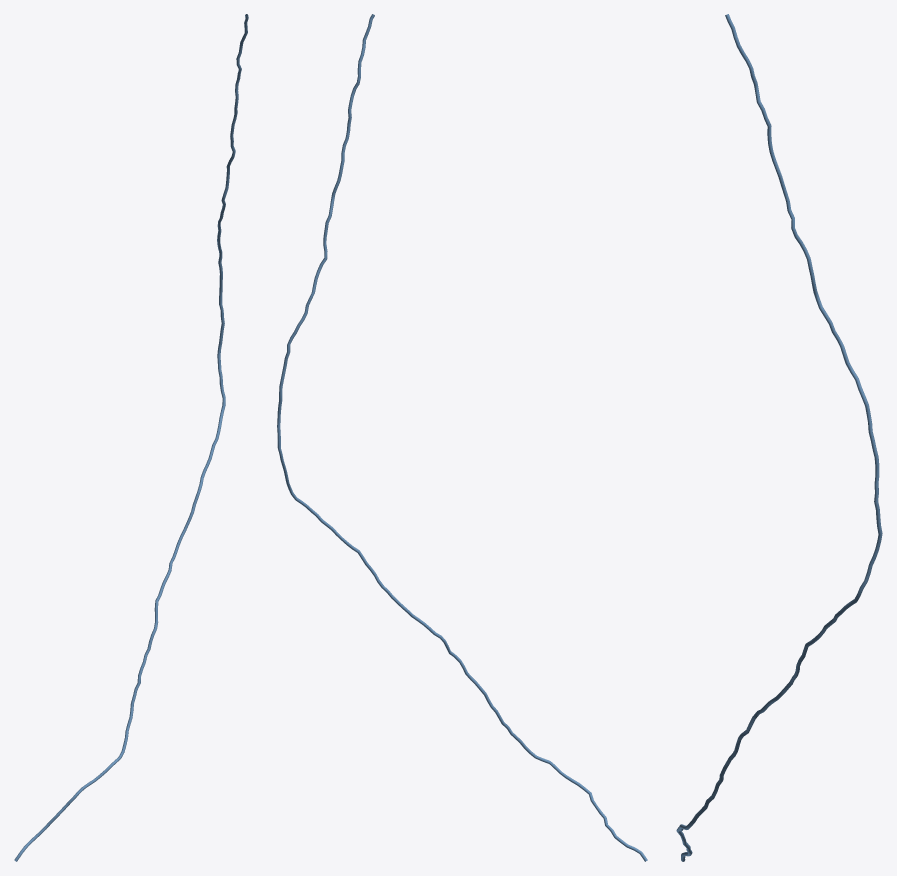
Rendered from sweep112.fbx.
The picture shows the model from 3 angles, left to right: view 1: azimuth 30°, elevation 25°; view 2: azimuth 150°, elevation 25°; view 3: azimuth 270°, elevation 25°; orthographic projection. The views are drawn at different scales.
Visible parts, largest first — view 1: sweep112; view 2: sweep112; view 3: sweep112.
Boxes of the visible parts, x1=… form: sweep112: x1=14, y1=14, x2=248, y2=861; sweep112: x1=277, y1=14, x2=647, y2=861; sweep112: x1=676, y1=14, x2=882, y2=861.
Bounding box in the file's own units: 2.03 × 5.28 × 0.9828.
